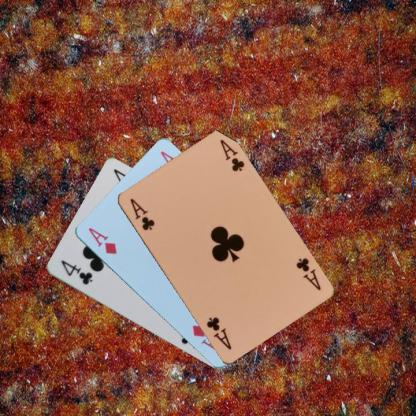4c: (58, 257, 93, 287)
Ac: (127, 195, 156, 232), (293, 255, 322, 292)
Ad: (85, 225, 118, 256)
